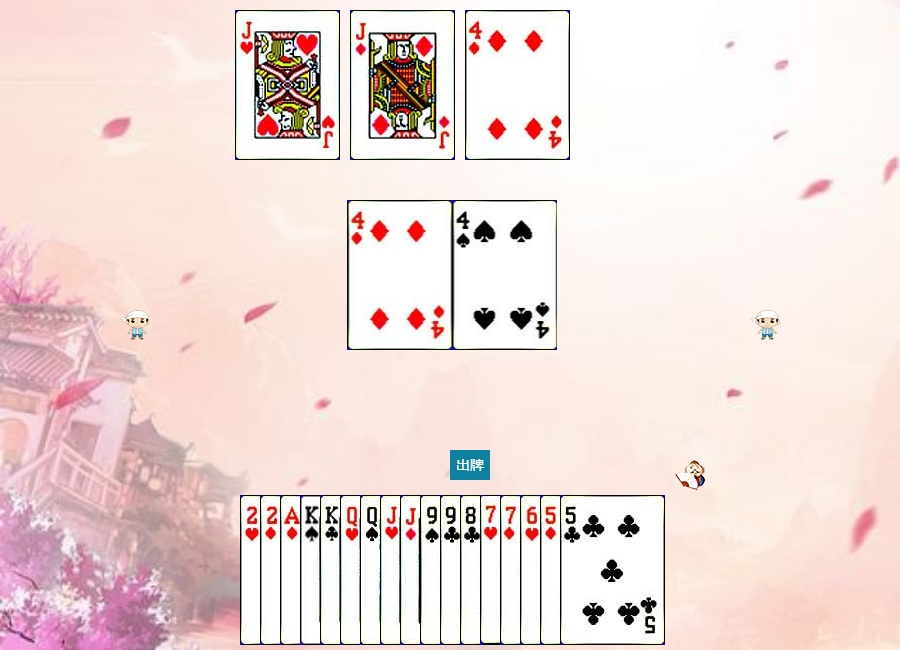11~1: (350, 10, 455, 160), (400, 495, 505, 645)
11~3: (235, 10, 340, 160), (380, 495, 485, 645)
12~3: (340, 495, 445, 645)
12~4: (360, 495, 465, 645)
13~2: (320, 495, 425, 645)
13~4: (300, 495, 405, 645)
14~1: (280, 495, 385, 645)
15~1: (260, 495, 365, 645)
15~3: (240, 495, 345, 645)
4~1: (465, 10, 570, 160), (348, 200, 453, 350)
4~4: (453, 200, 558, 350)
5~1: (540, 495, 645, 645)
5~2: (560, 495, 665, 645)
6~3: (520, 495, 625, 645)
7~1: (500, 495, 605, 645)
7~3: (480, 495, 585, 645)
8~2: (460, 495, 565, 645)
9~2: (440, 495, 545, 645)
9~4: (420, 495, 525, 645)
